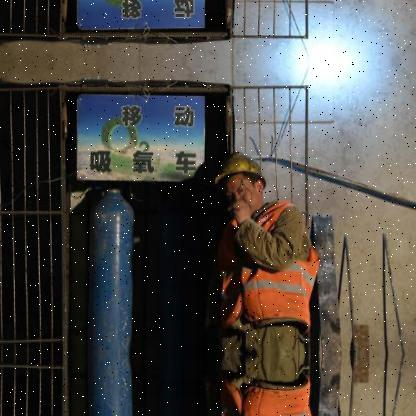Helmet: (216, 146, 272, 226)
